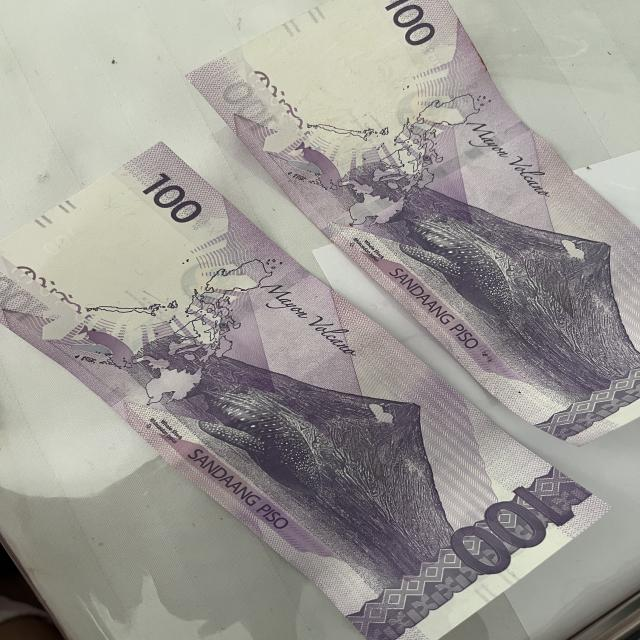100_whale: (174, 367, 332, 502), (379, 197, 523, 330)
100_whale_watermark: (70, 319, 141, 381), (288, 135, 354, 200)
value_watermark: (18, 228, 93, 262)
watermark: (271, 27, 483, 130)
